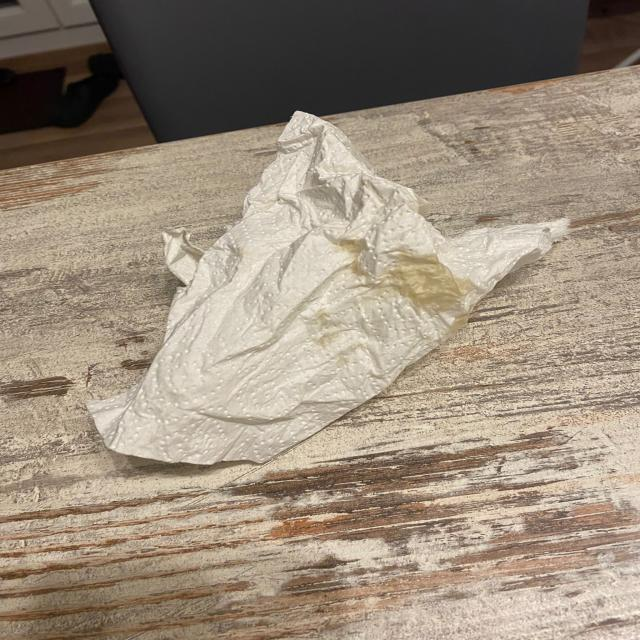kitchen paper: (96, 105, 571, 464)
